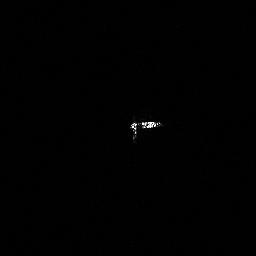ship: (126, 117, 163, 144)
